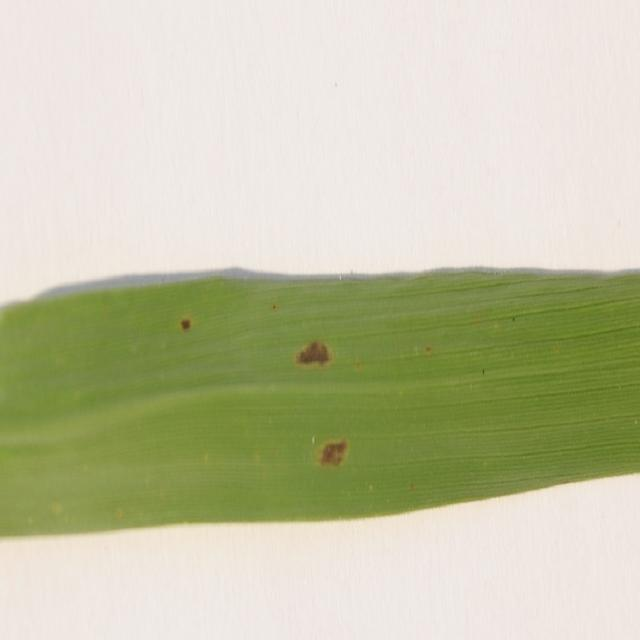Unhealthy: (295, 339, 334, 370), (315, 438, 350, 472), (181, 320, 192, 330), (424, 345, 433, 354), (475, 316, 480, 324), (273, 304, 277, 311), (356, 364, 360, 371), (410, 483, 414, 490), (273, 449, 276, 455), (556, 343, 558, 351)
